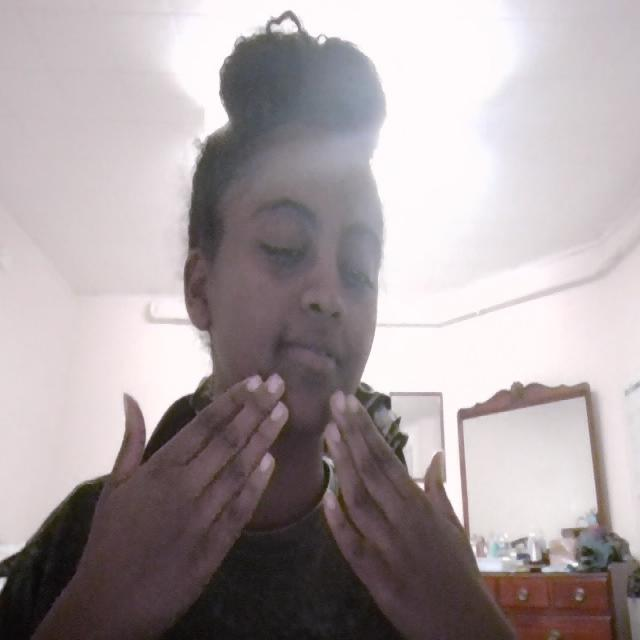thanks: (59, 365, 528, 638)
